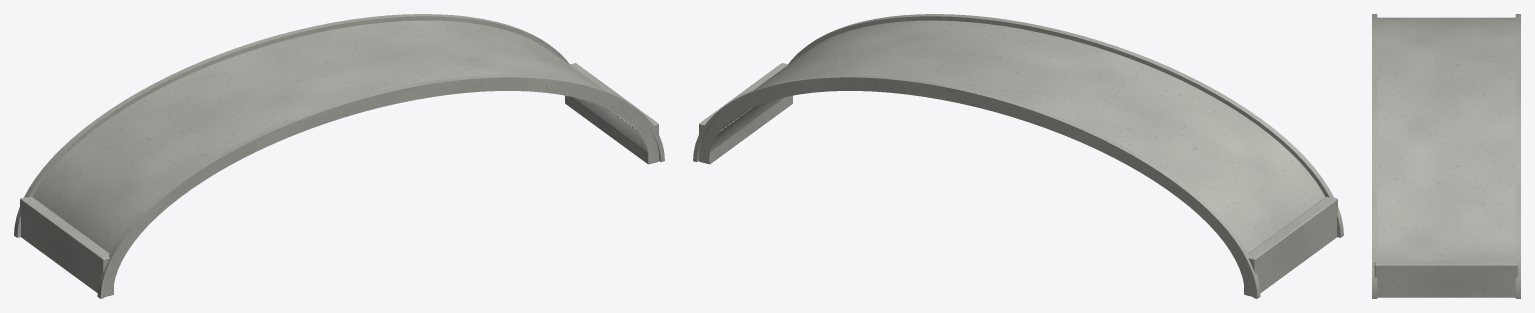
The model's file is gorgehold-survivor-gallery-and-operations-gallery-roof-333ccfc3__32851.glb.
3 views of the same model, side by side, from view 1: azimuth 30°, elevation 25°; view 2: azimuth 150°, elevation 25°; view 3: azimuth 270°, elevation 25° (orthographic). The views are drawn at different scales.
Visible parts, largest first — view 1: gallery-roof-earth-retaining-cap; view 2: gallery-roof-earth-retaining-cap; view 3: gallery-roof-earth-retaining-cap.
Boxes of the visible parts, left/top/right/bottom form: gallery-roof-earth-retaining-cap: left=14, top=14, right=664, bottom=298; gallery-roof-earth-retaining-cap: left=693, top=14, right=1343, bottom=298; gallery-roof-earth-retaining-cap: left=1372, top=14, right=1520, bottom=298.
Bounding box in the file's own units: 8.4 × 1.95 × 2.23.
Materials: 1 (1 with a texture image).
